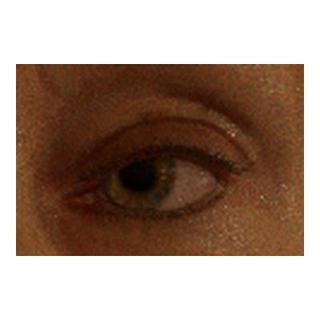pupil: (120, 155, 155, 191)
